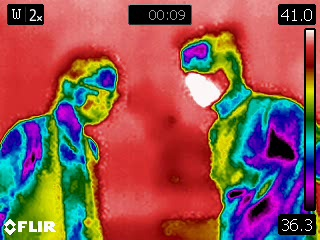human: (173, 24, 320, 240), (1, 45, 123, 240)
